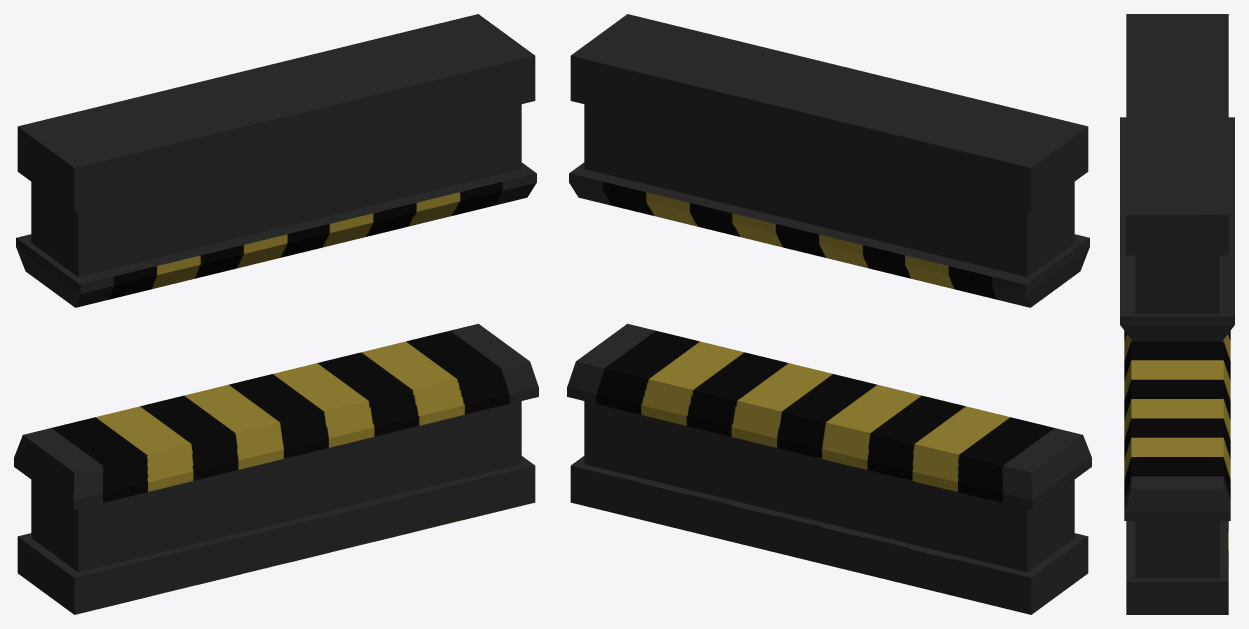
File: Doors.glb
The picture shows the model from 3 angles, left to right: view 1: azimuth 30°, elevation 25°; view 2: azimuth 150°, elevation 25°; view 3: azimuth 270°, elevation 25°; orthographic projection. The views are drawn at different scales.
Visible parts, largest first — view 1: Doors; view 2: Doors; view 3: Doors.
Part boxes in pixels (<box>): Doors: <box>14,14,538,614</box>; Doors: <box>567,14,1091,614</box>; Doors: <box>1120,14,1234,614</box>.
Size of the model in its own units: 2.83 by 2.59 by 0.6751.
1 material, 1 textured.
